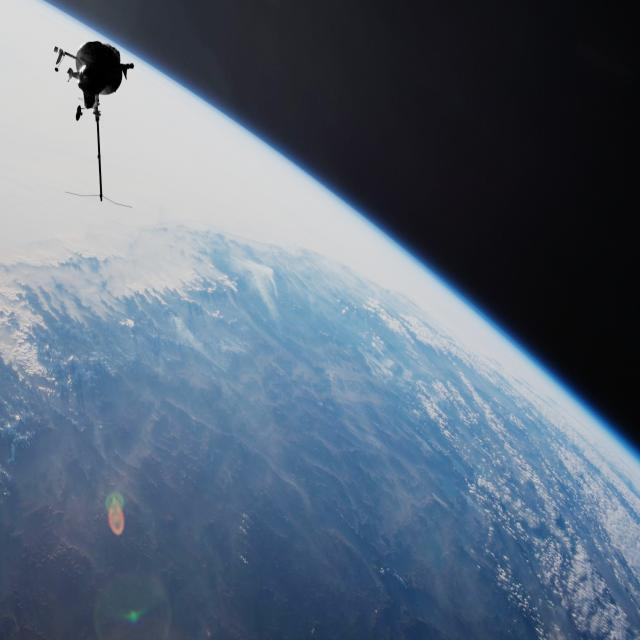satellite: (52, 26, 140, 218)
